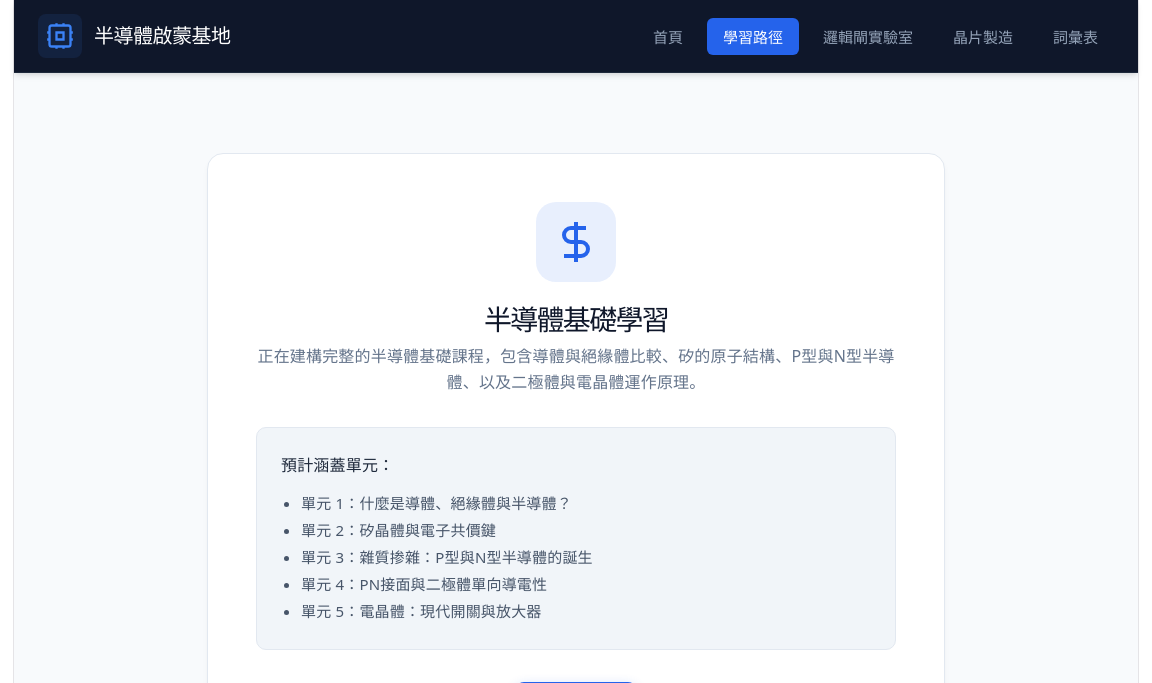
Introduce Semiconductor Website M1 › navigates to logic gates lab page
Click the button "邏輯閘實驗室" at (868, 36), box [807, 18, 929, 54]
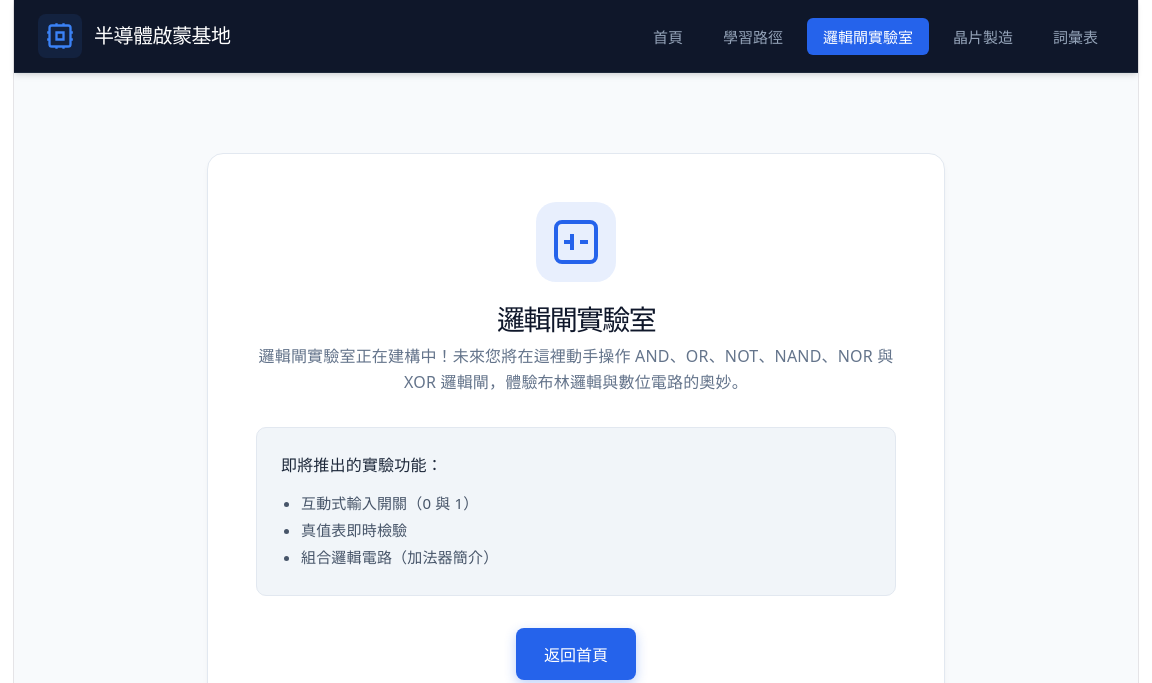
Expected: the heading "邏輯閘實驗室" is shown, [497, 300, 655, 338]
